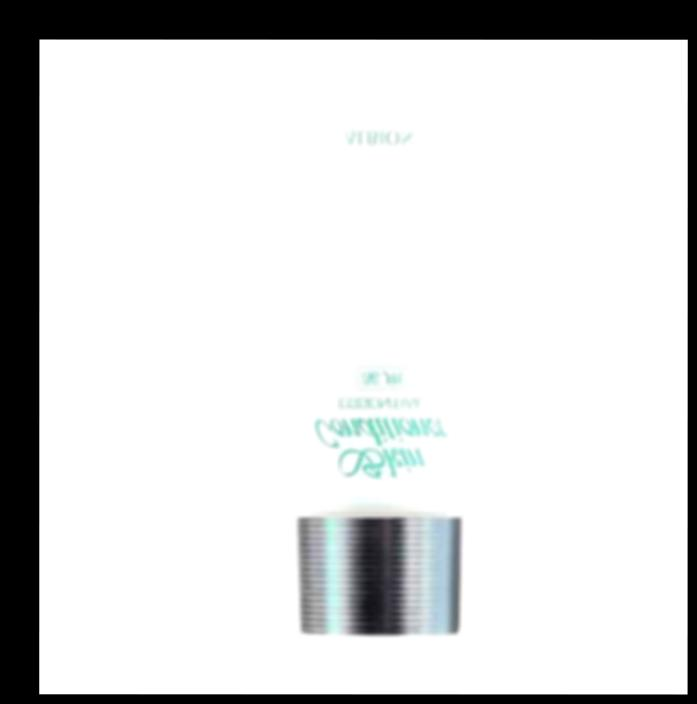cosmetic: (288, 86, 463, 638)
